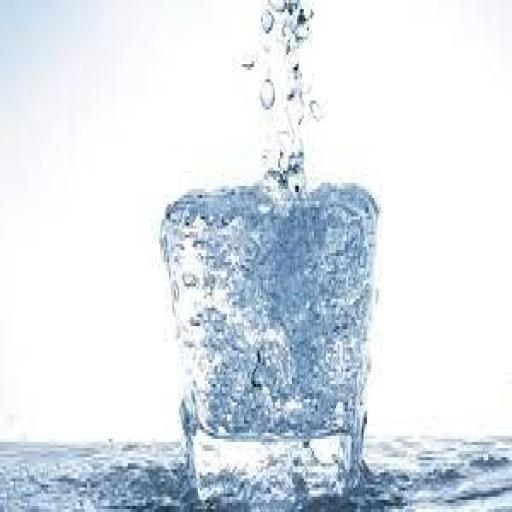bottle: (152, 149, 377, 512)
